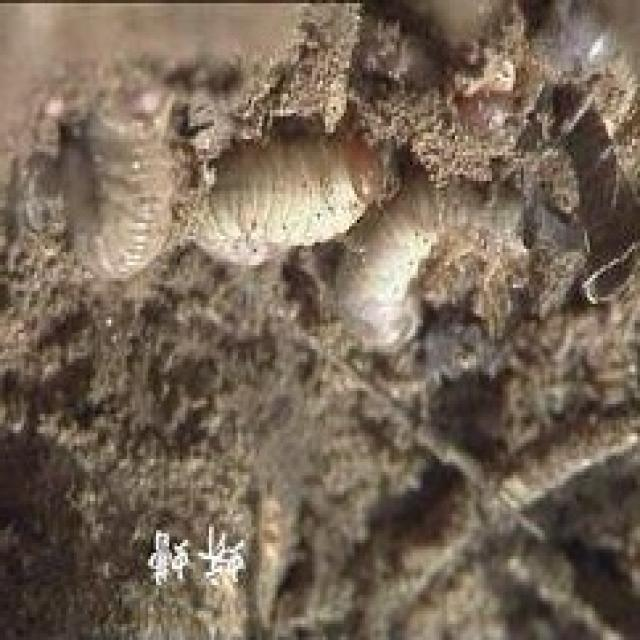grub: (51, 82, 178, 295), (345, 186, 498, 354), (191, 150, 398, 266)
